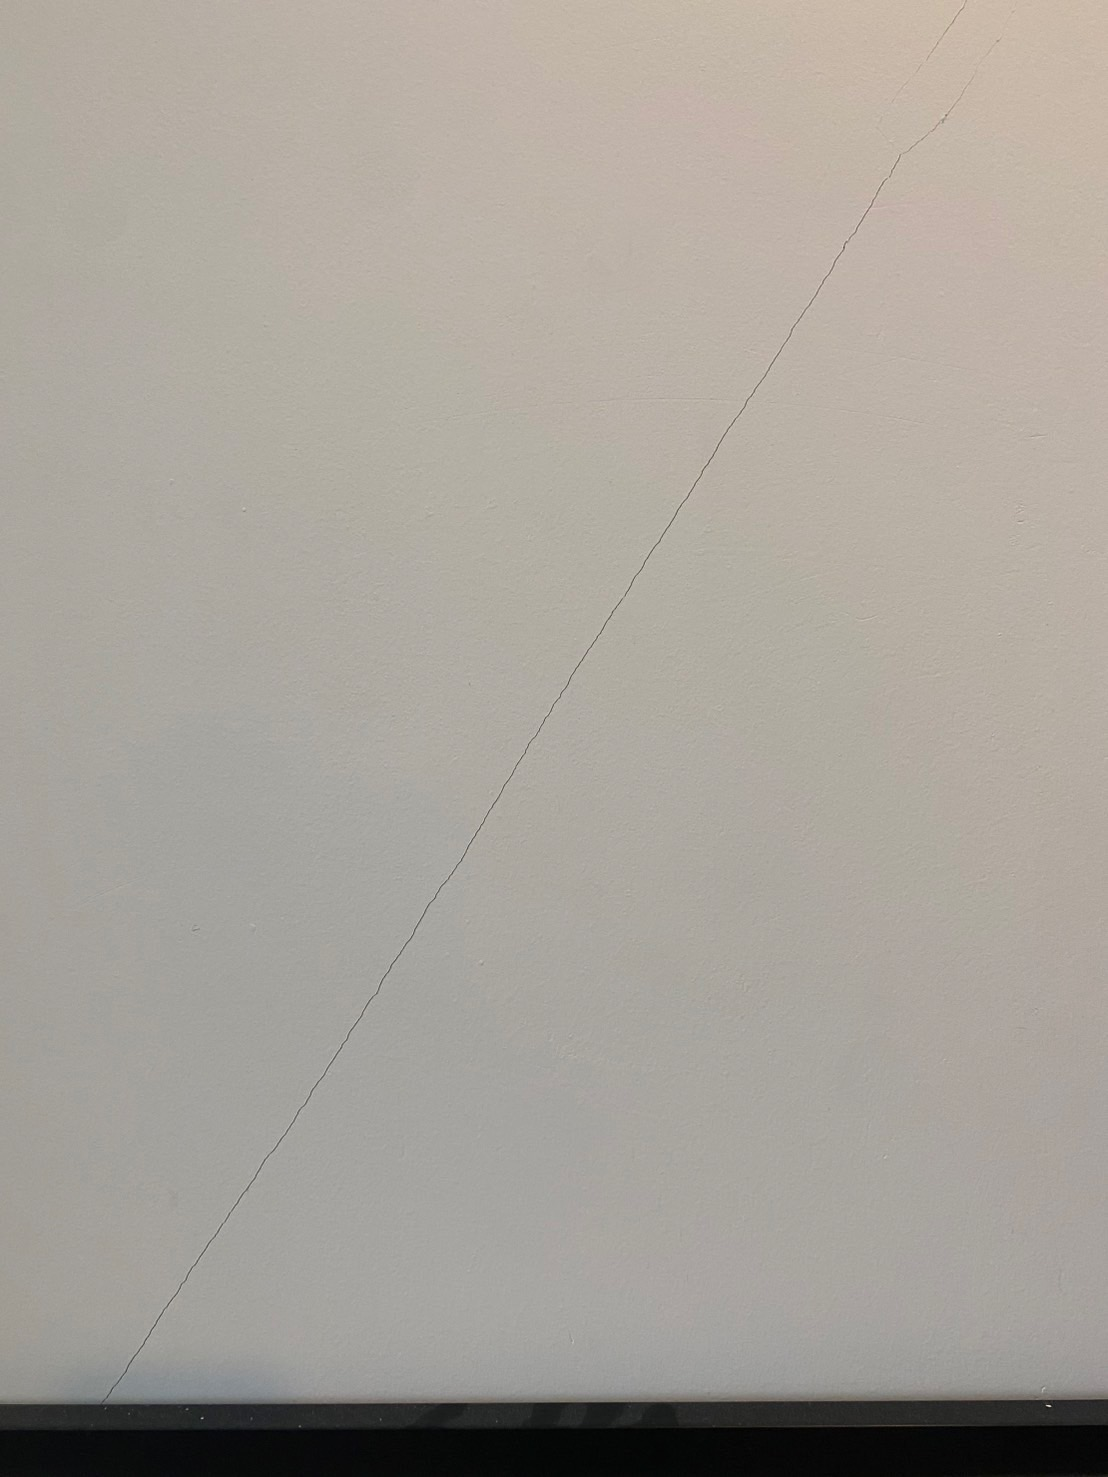Low: (74, 1, 1020, 1405)
